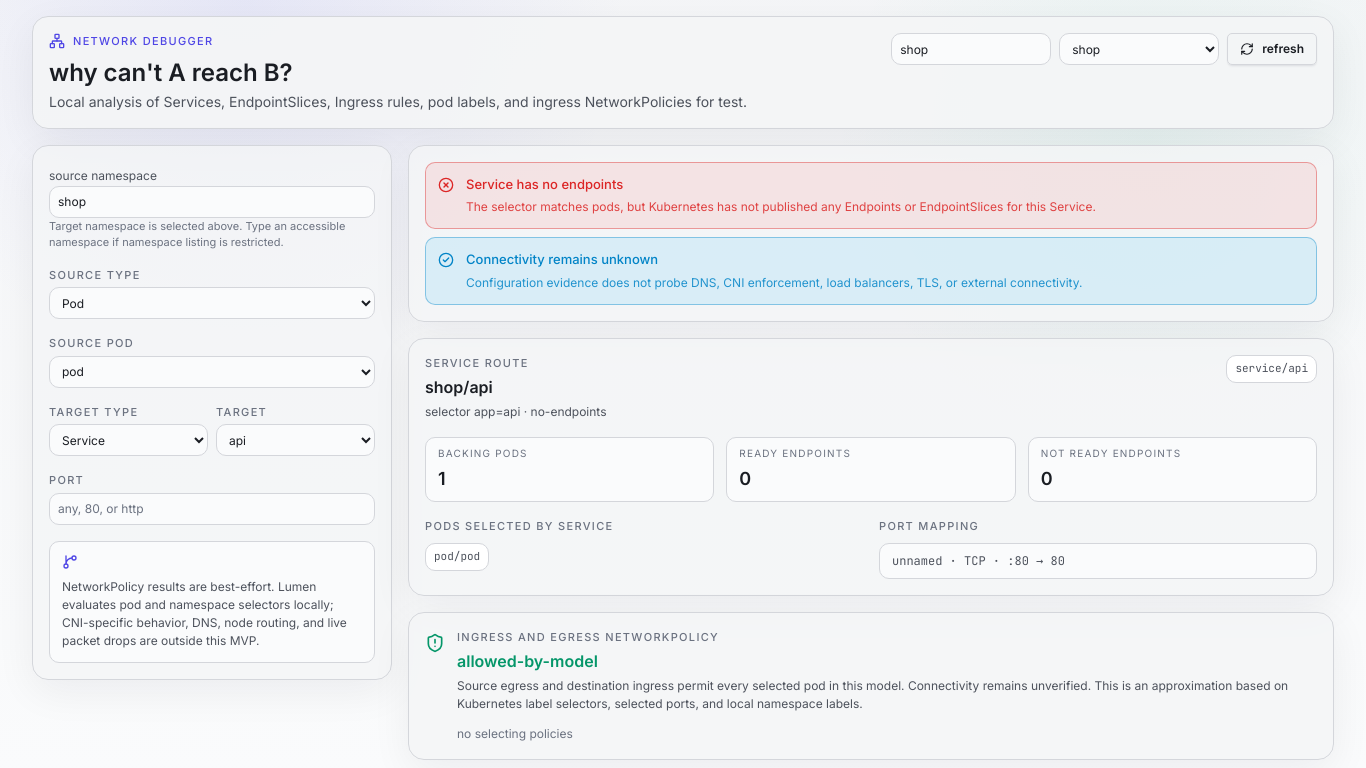
NetworkDebuggerView › keeps target evidence when source permission is denied
expect the text "Connectivity remains unknown" is shown: met, box [466,251,658,267]
Replace the text in the field labelled "source namespace" with "client" at point(212, 202), box [49,186,375,218]
(page scrolled)
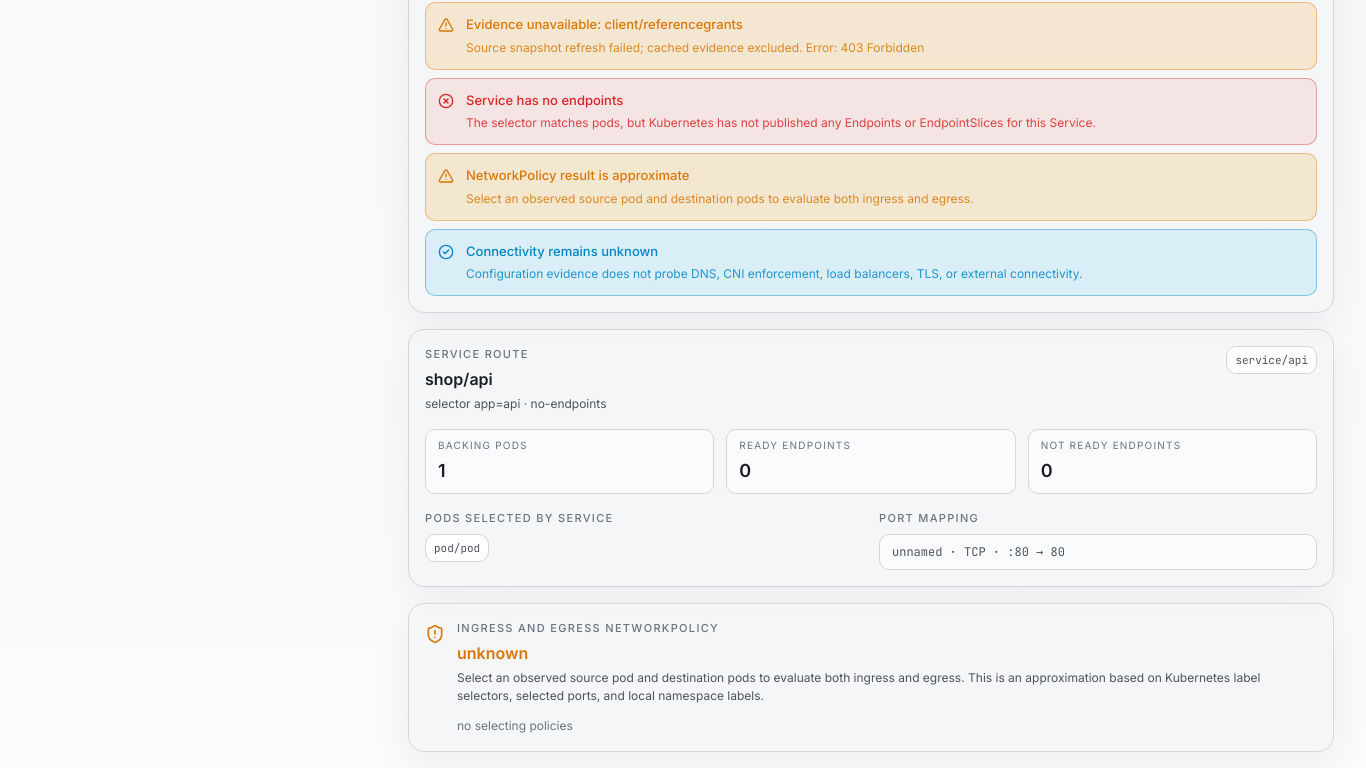
expect the text "service route" is shown: met, box [425,347,529,361]
expect the heading "unknown" is shown: met, box [457,642,528,662]
